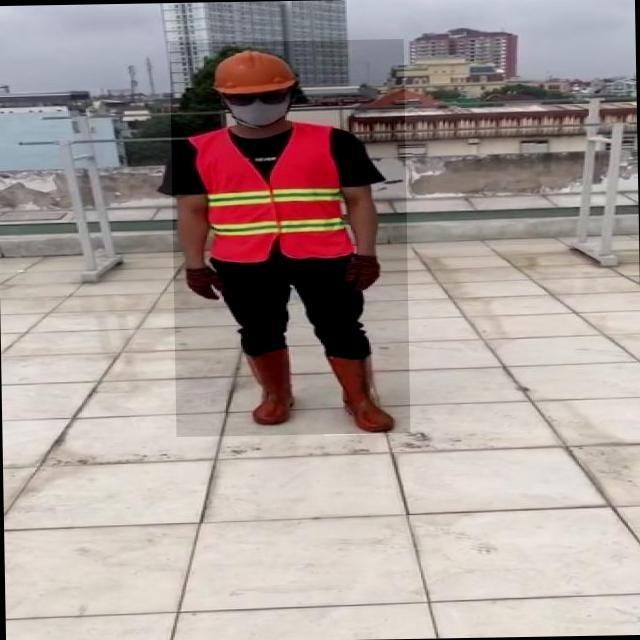Helmet: (170, 39, 411, 437), (205, 49, 302, 95)
Safety Boot: (323, 352, 394, 435), (246, 350, 292, 426)
Safety Vest: (191, 123, 350, 264)
